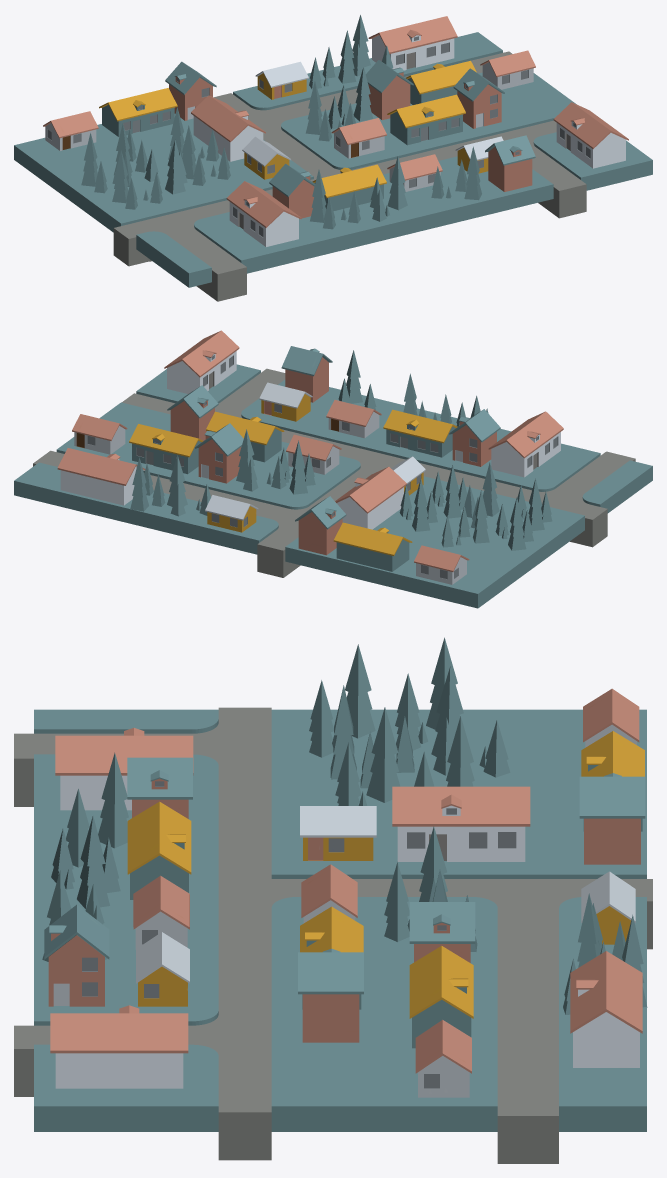
The model's file is Level.obj.
The picture shows the model from 3 angles, top to bottom: view 1: azimuth 30°, elevation 25°; view 2: azimuth 150°, elevation 25°; view 3: azimuth 270°, elevation 25°; orthographic projection. The views are drawn at different scales.
Parts seen in each view (by area): view 1: Cube, Cube.012_Cube.013, Cube.001, Cube.008, Cube.009, Cube.002, Cube.010_Cube.011, Cone.001, Cone, Cube.011_Cube.012, Cone.006, Cone.002 (+4 smaller); view 2: Cube, Cube.012_Cube.013, Cube.001, Cube.008, Cube.009, Cube.002, Cube.010_Cube.011, Cone.001, Cone, Cube.011_Cube.012, Cone.004, Cone.006 (+3 smaller); view 3: Cube, Cube.001, Cube.012_Cube.013, Cube.009, Cube.008, Cube.002, Cube.010_Cube.011, Cone.001, Cube.011_Cube.012, Cone.006, Cone.004, Cone.002 (+3 smaller).
Boxes of the visible parts, bbox=[...] form: Cube: bbox=[14, 32, 652, 287]; Cube.012_Cube.013: bbox=[191, 16, 628, 246]; Cube.001: bbox=[113, 51, 586, 301]; Cube.008: bbox=[99, 60, 476, 211]; Cube.009: bbox=[165, 60, 504, 218]; Cube.002: bbox=[43, 50, 535, 191]; Cube.010_Cube.011: bbox=[242, 61, 503, 179]; Cone.001: bbox=[84, 15, 479, 197]; Cone: bbox=[81, 52, 481, 222]; Cube.011_Cube.012: bbox=[485, 135, 535, 191]; Cone.006: bbox=[124, 45, 443, 215]; Cone.002: bbox=[83, 41, 480, 208]; Cube: bbox=[14, 364, 652, 608]; Cube.012_Cube.013: bbox=[57, 330, 563, 529]; Cube.001: bbox=[33, 368, 635, 577]; Cube.008: bbox=[129, 409, 457, 571]; Cube.009: bbox=[167, 385, 500, 555]; Cube.002: bbox=[72, 400, 469, 584]; Cube.010_Cube.011: bbox=[205, 382, 425, 532]; Cone.001: bbox=[132, 350, 542, 525]; Cone: bbox=[130, 387, 544, 550]; Cube.011_Cube.012: bbox=[281, 346, 332, 402]; Cone.004: bbox=[152, 378, 551, 534]; Cone.006: bbox=[144, 384, 526, 539]; Cube: bbox=[34, 709, 646, 1131]; Cube.001: bbox=[14, 707, 652, 1163]; Cube.012_Cube.013: bbox=[50, 728, 642, 1088]; Cube.009: bbox=[127, 757, 645, 1042]; Cube.008: bbox=[127, 731, 644, 1048]; Cube.002: bbox=[133, 688, 639, 1097]; Cube.010_Cube.011: bbox=[136, 806, 635, 1006]; Cone.001: bbox=[47, 637, 643, 964]; Cube.011_Cube.012: bbox=[44, 904, 109, 1006]; Cone.006: bbox=[52, 694, 602, 1001]; Cone.004: bbox=[67, 673, 625, 960]; Cone.002: bbox=[49, 685, 644, 982].
Bounding box in the file's own units: 412 × 66.72 × 272.
Materials: 16 (16 with a texture image).
